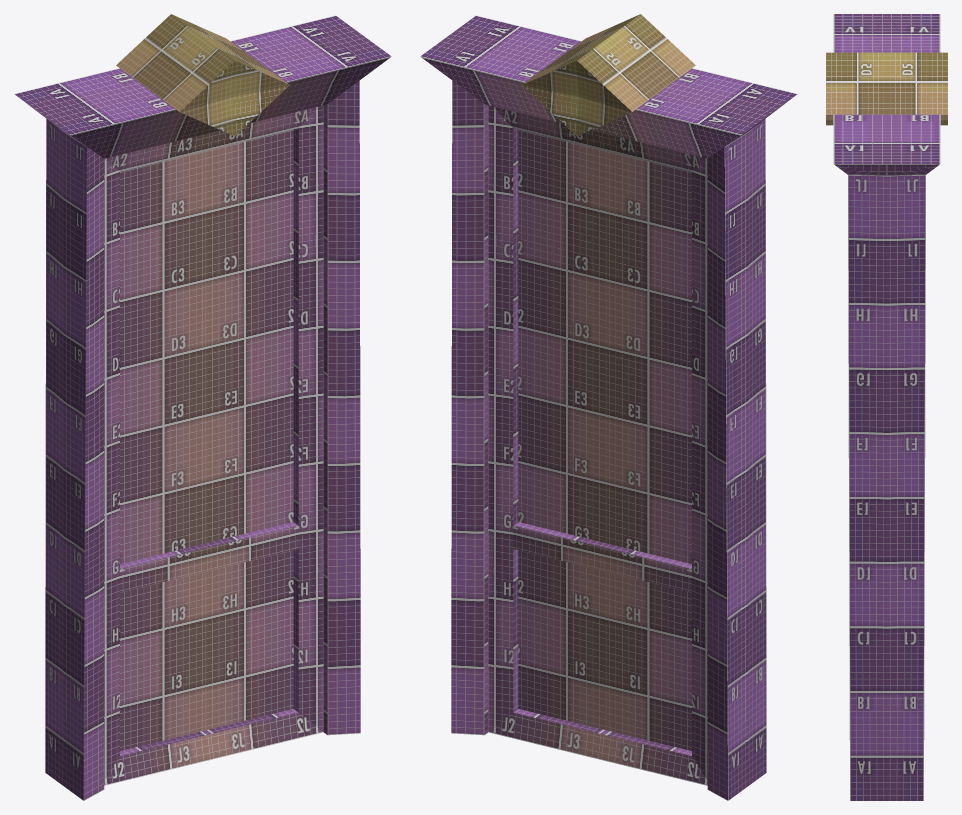
The model's file is Doorway.fbx.
3 views of the same model, side by side, from view 1: azimuth 30°, elevation 25°; view 2: azimuth 150°, elevation 25°; view 3: azimuth 270°, elevation 25° (orthographic). The views are drawn at different scales.
Parts seen in each view (by area): view 1: Door, Doorframe, DoorOrnament; view 2: Door, Doorframe, DoorOrnament; view 3: Doorframe, DoorOrnament.
Boxes of the visible parts, x1,y1,x2,y2 form: Door: (104,105,323,785); Doorframe: (14,15,391,800); DoorOrnament: (116,14,289,136); Door: (488,105,707,785); Doorframe: (420,15,797,800); DoorOrnament: (522,14,695,136); Doorframe: (833,14,940,800); DoorOrnament: (826,52,947,125).
Bounding box in the file's own units: 49.45 × 306 × 144.
